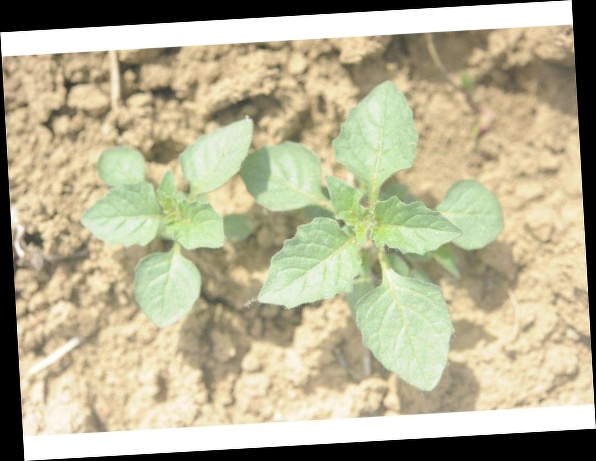nightshade: (243, 80, 504, 396), (82, 121, 257, 330)
